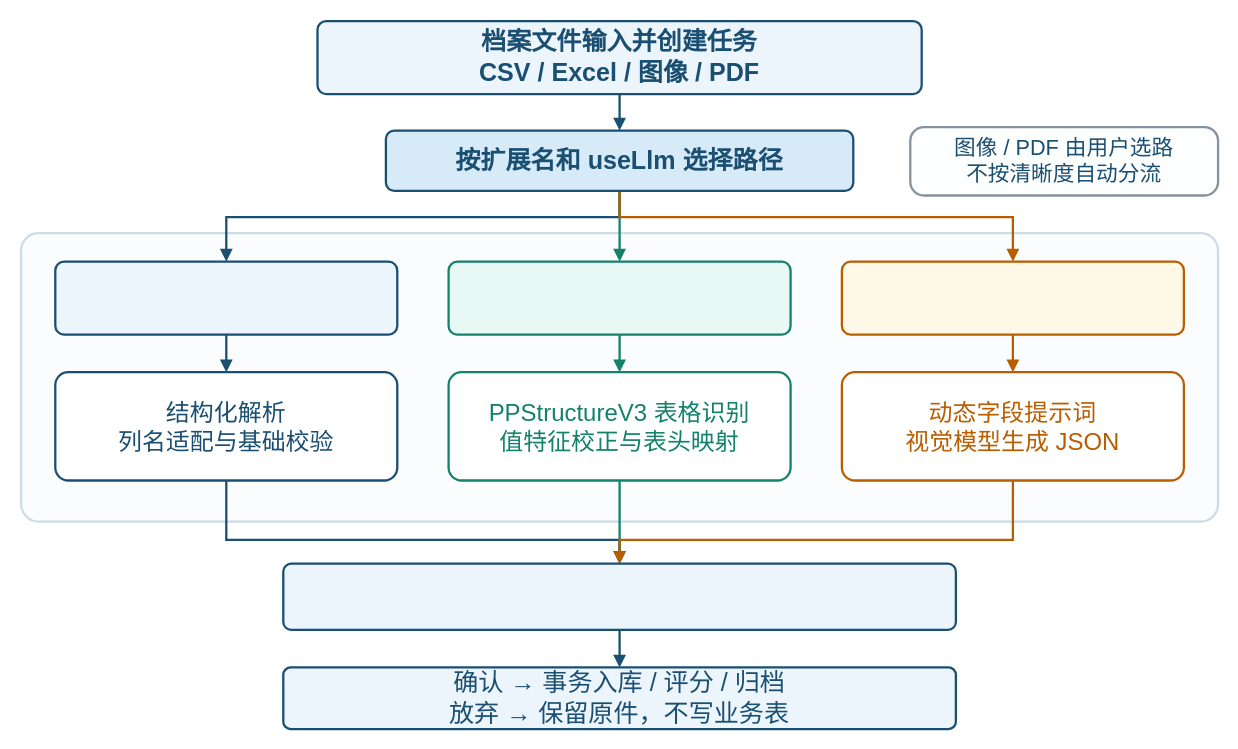
Image size: 1238x749. Some labels were removed from this diagram. Each missing label, with the centre of its shape:
"CSV / Excel" goes at pixel 226 297.
"MLLM 路径" goes at pixel 1012 297.
"OCR 路径" goes at pixel 619 297.
"保存原始记录与审查草稿 对照原件编辑 / 增删 / 校验" goes at pixel 619 596.
